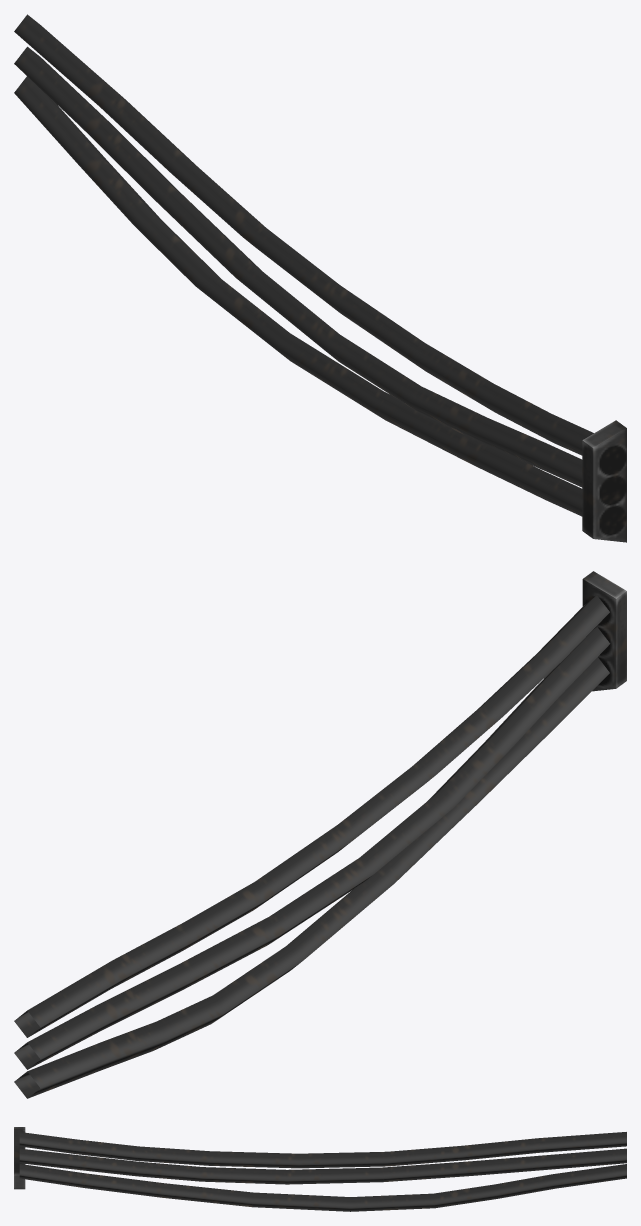
The model's file is cableWall01_B.fbx.
3 renders of one model, top to bottom at view 1: azimuth 30°, elevation 25°; view 2: azimuth 150°, elevation 25°; view 3: azimuth 270°, elevation 25°, orthographic. The views are drawn at different scales.
Parts seen in each view (by area): view 1: cableWall01_B; view 2: cableWall01_B; view 3: cableWall01_B.
Part boxes in pixels (x1,y1,x2,y2): cableWall01_B: (14,14,626,542); cableWall01_B: (14,571,626,1098); cableWall01_B: (14,1127,626,1211).
Bounding box in the file's own units: 12.07 × 46.97 × 303.
